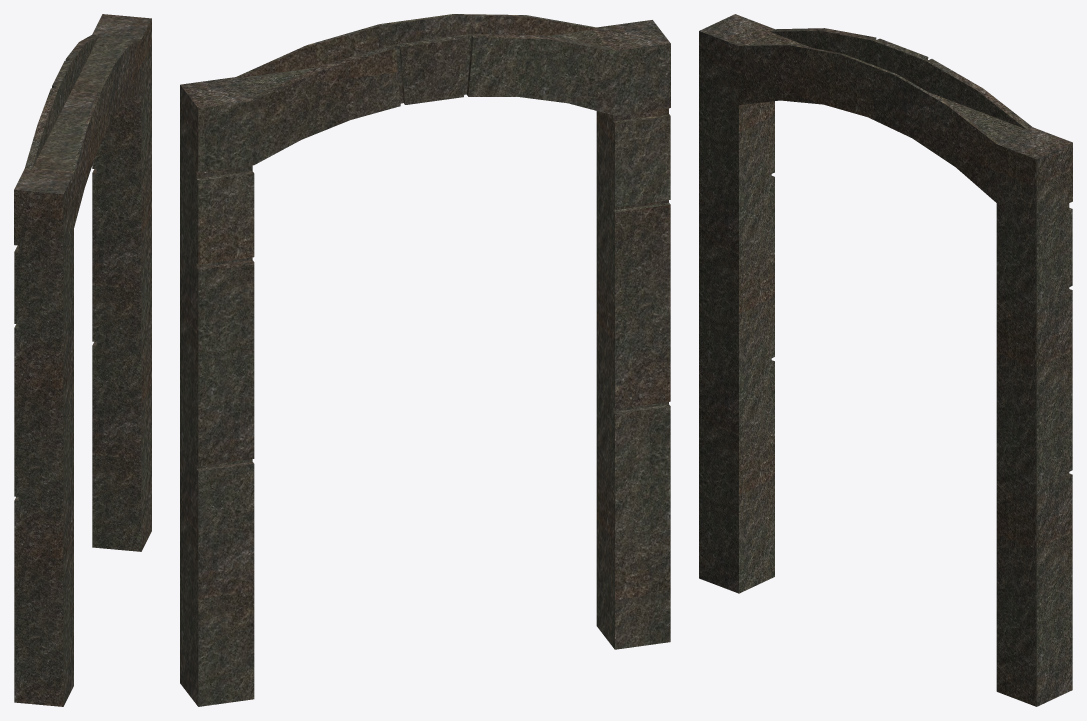
File: portada-pedra 2.FBX
3 renders of one model, left to right at view 1: azimuth 30°, elevation 25°; view 2: azimuth 150°, elevation 25°; view 3: azimuth 270°, elevation 25°, orthographic. The views are drawn at different scales.
Visible parts, largest first — view 1: Portada_Pedra; view 2: Portada_Pedra; view 3: Portada_Pedra.
Part boxes in pixels (box(x1,y1,x2,y2)): Portada_Pedra: box(14, 14, 151, 706); Portada_Pedra: box(180, 14, 670, 706); Portada_Pedra: box(699, 14, 1072, 706).
Bounding box in the file's own units: 211 × 230 × 392.
